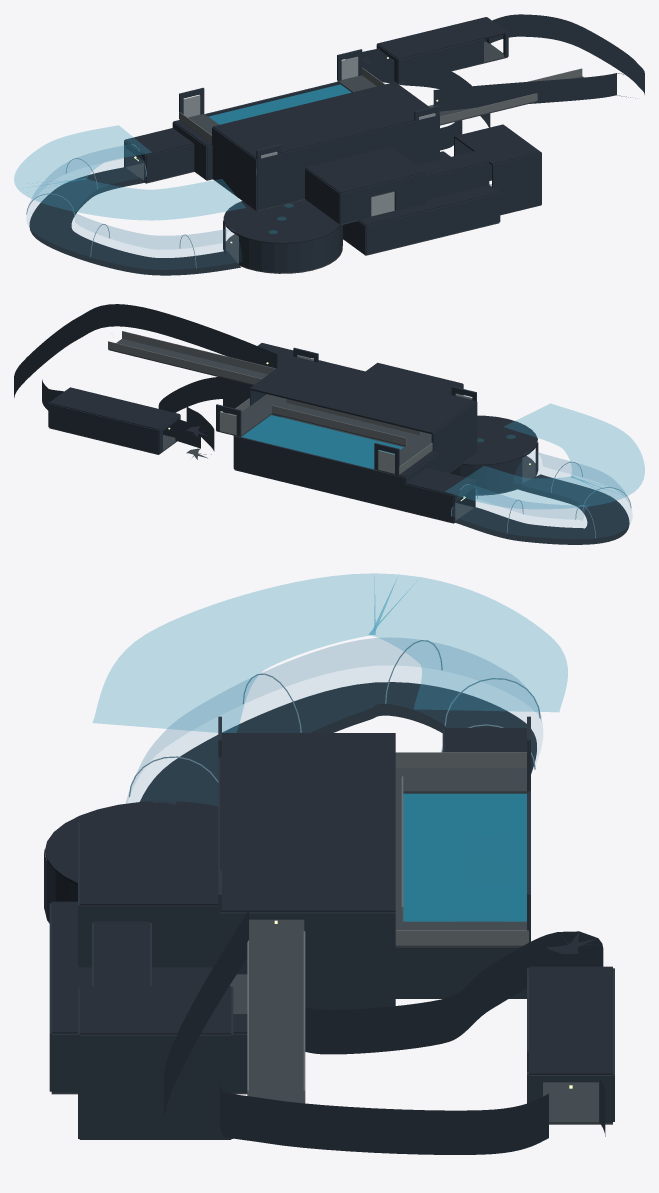
File: aquarium_game_layout_v3.glb
The picture shows the model from 3 angles, top to bottom: view 1: azimuth 30°, elevation 25°; view 2: azimuth 150°, elevation 25°; view 3: azimuth 270°, elevation 25°; orthographic projection. The views are drawn at different scales.
Visible parts, largest first — view 1: DarkWall, Ceiling, ArchWaterSurface, TankGlassArch, ArchFloor, Floor, Metal, WatatsumiWaterSurface, WatatsumiWater, Door; view 2: DarkWall, Ceiling, ArchWaterSurface, TankGlassArch, ArchFloor, Floor, Metal, WatatsumiWaterSurface, WatatsumiWater, Door; view 3: DarkWall, Ceiling, ArchWaterSurface, TankGlassArch, Floor, WatatsumiWaterSurface, WatatsumiWater, ArchFloor, Metal, ArchTrim.
Boxes of the visible parts, left/top/right/bottom form: DarkWall: left=124, top=14, right=644, bottom=272; Ceiling: left=125, top=17, right=634, bottom=243; ArchWaterSurface: left=14, top=125, right=245, bottom=220; TankGlassArch: left=27, top=145, right=241, bottom=269; ArchFloor: left=29, top=167, right=240, bottom=275; Floor: left=126, top=41, right=635, bottom=273; Metal: left=179, top=67, right=582, bottom=175; WatatsumiWaterSurface: left=209, top=84, right=351, bottom=124; WatatsumiWater: left=209, top=84, right=351, bottom=124; Door: left=183, top=56, right=435, bottom=216; DarkWall: left=14, top=304, right=538, bottom=522; Ceiling: left=49, top=343, right=537, bottom=495; ArchWaterSurface: left=445, top=403, right=644, bottom=508; TankGlassArch: left=452, top=451, right=631, bottom=538; ArchFloor: left=455, top=474, right=629, bottom=544; Floor: left=49, top=338, right=537, bottom=523; Metal: left=108, top=331, right=432, bottom=474; WatatsumiWaterSurface: left=242, top=415, right=403, bottom=468; WatatsumiWater: left=242, top=415, right=402, bottom=468; Door: left=220, top=355, right=472, bottom=473; DarkWall: left=44, top=716, right=614, bottom=1154; Ceiling: left=44, top=728, right=612, bottom=1074; ArchWaterSurface: left=93, top=573, right=567, bottom=732; TankGlassArch: left=126, top=638, right=542, bottom=805; Floor: left=46, top=768, right=612, bottom=1124; WatatsumiWaterSurface: left=403, top=793, right=526, bottom=921; WatatsumiWater: left=403, top=794, right=526, bottom=921; ArchFloor: left=140, top=682, right=536, bottom=806; Metal: left=247, top=752, right=528, bottom=1103; ArchTrim: left=129, top=640, right=540, bottom=796.
Size of the model in its own units: 96.76 by 14.3 by 40.7.
